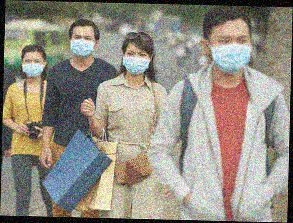with_mask: (207, 33, 251, 76), (123, 49, 150, 76), (70, 33, 94, 59), (20, 57, 44, 78)
